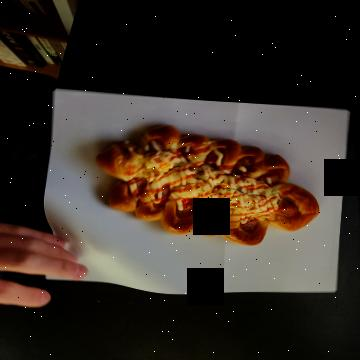pizza_bread: (130, 42, 249, 264)
